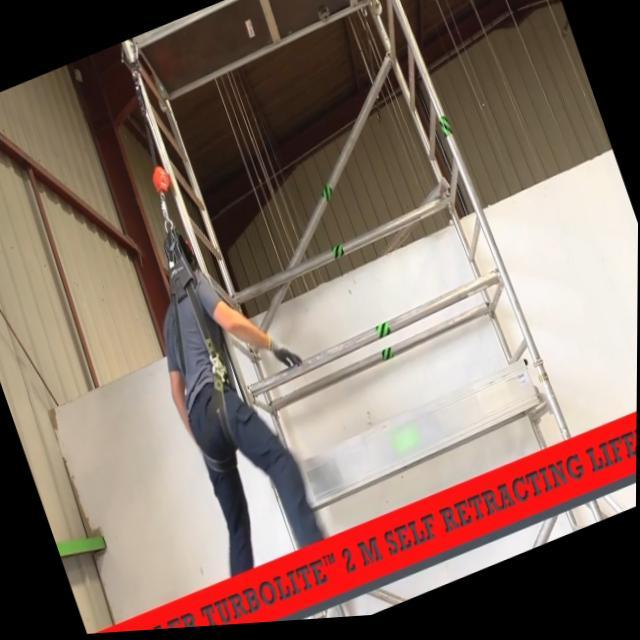belt: (82, 147, 275, 496)
